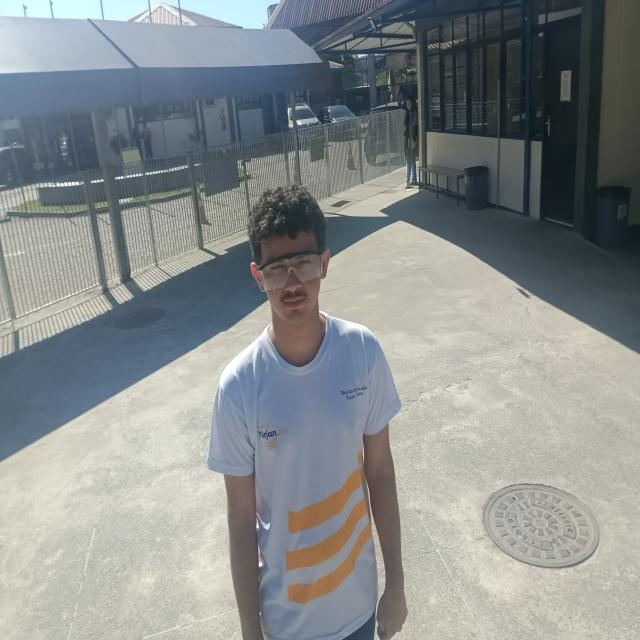oculos-epi: (257, 251, 321, 290)
